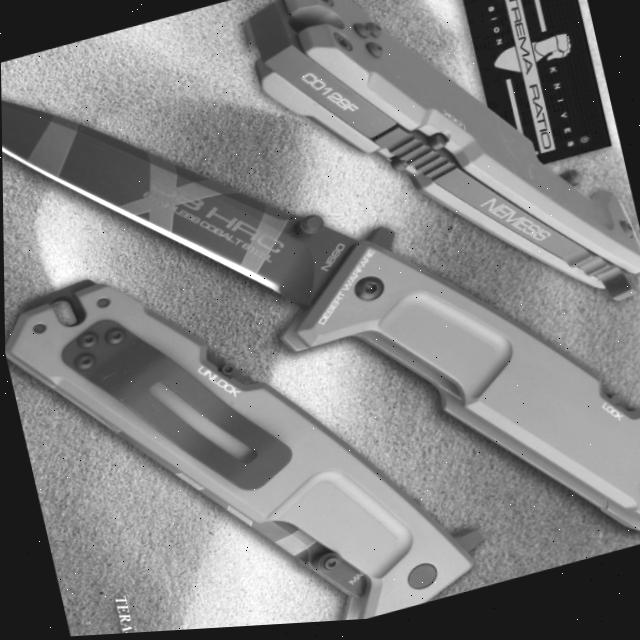knife: (0, 0, 640, 640), (2, 186, 499, 640), (227, 0, 640, 392)
